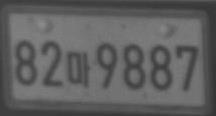2: (41, 41, 63, 87)
7: (175, 45, 199, 91)
8: (121, 43, 146, 90), (14, 40, 38, 86), (149, 45, 173, 90)
9: (96, 42, 117, 88)
마: (66, 50, 91, 88)
